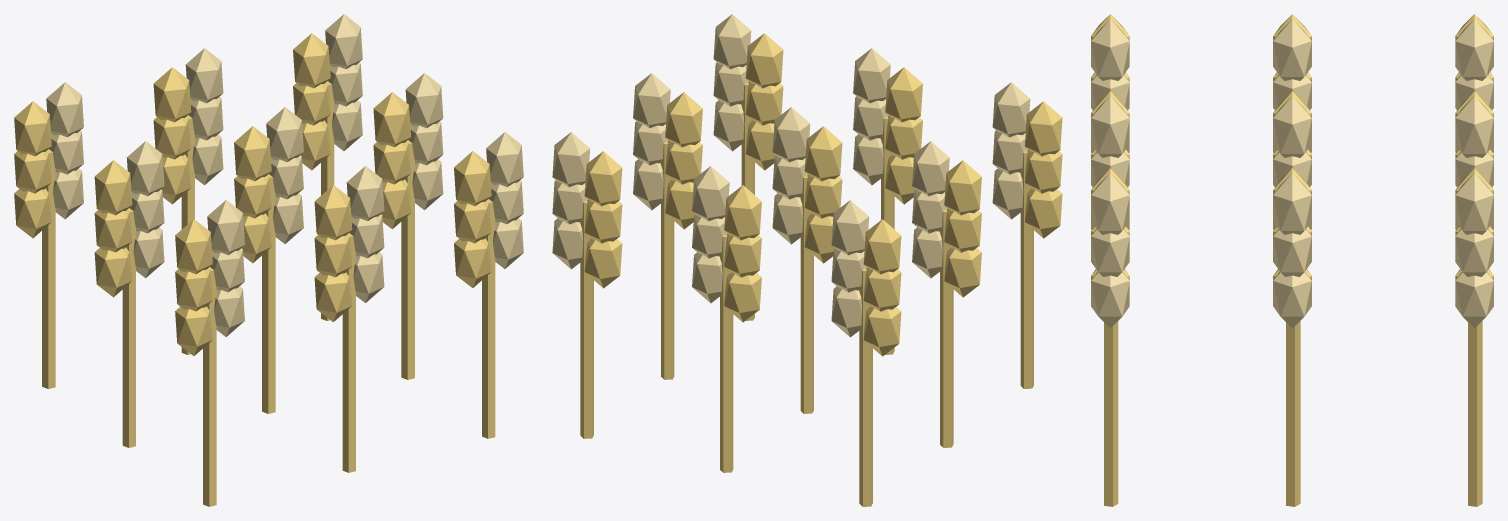
The model's file is wheat.glb.
3 renders of one model, left to right at view 1: azimuth 30°, elevation 25°; view 2: azimuth 150°, elevation 25°; view 3: azimuth 270°, elevation 25°, orthographic. The views are drawn at different scales.
Parts seen in each view (by area): view 1: wheat; view 2: wheat; view 3: wheat.
Boxes of the visible parts, x1,y1,x2,y2 form: wheat: (14,14,523,506); wheat: (552,14,1062,506); wheat: (1091,14,1493,506).
Size of the model in its own units: 1.29 by 1.07 by 1.15.
